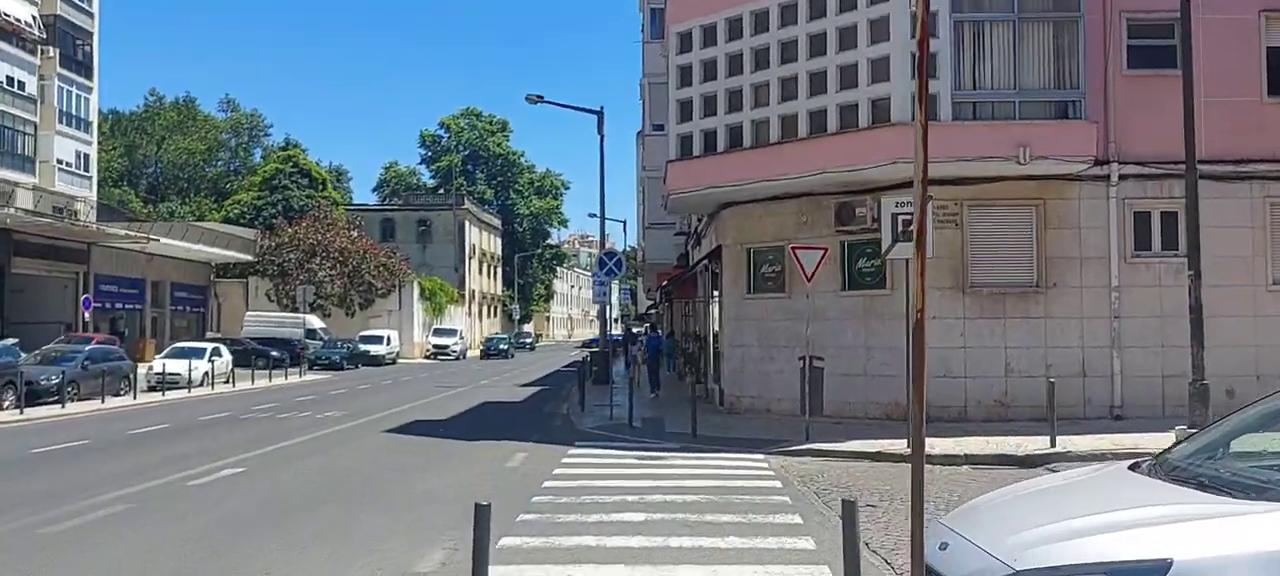cedencia de passagem: (787, 225, 847, 289)
